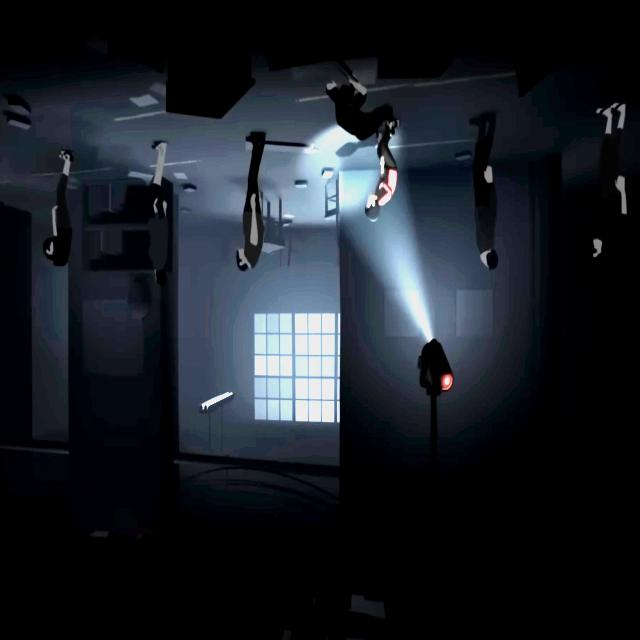boy: (364, 118, 397, 222)
zombie: (588, 101, 627, 261), (326, 75, 400, 141), (469, 112, 498, 271), (236, 131, 265, 271), (43, 149, 74, 267), (148, 140, 168, 286)
